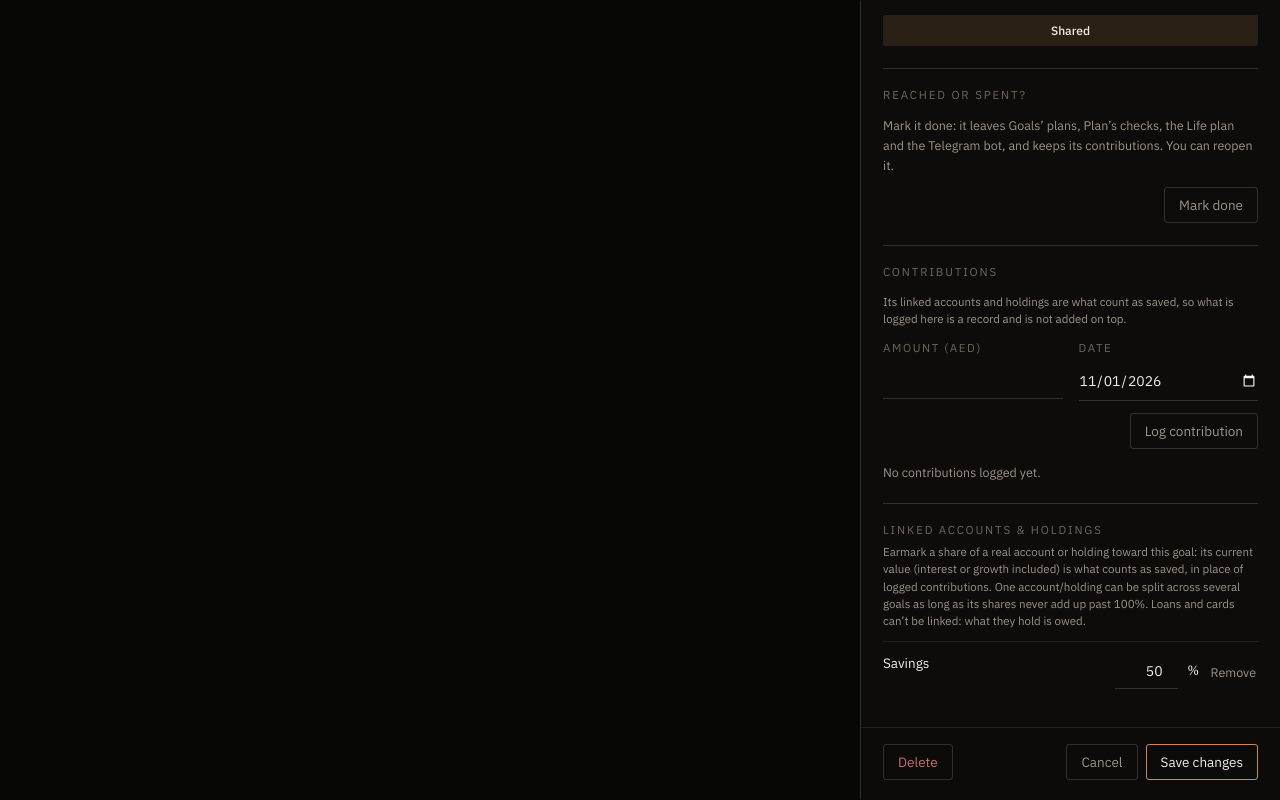
it: GoalEditor: nothing typed is lost or sent twice › counts a typed share as unsaved: Save refuses until it is updated or undone, and Escape asks first
The width and height of the screenshot is (1280, 800).
(page scrolled)
Replace the text in the number field named "Share of Savings, percent" with "60" at [1146, 672], box [1115, 654, 1178, 689]
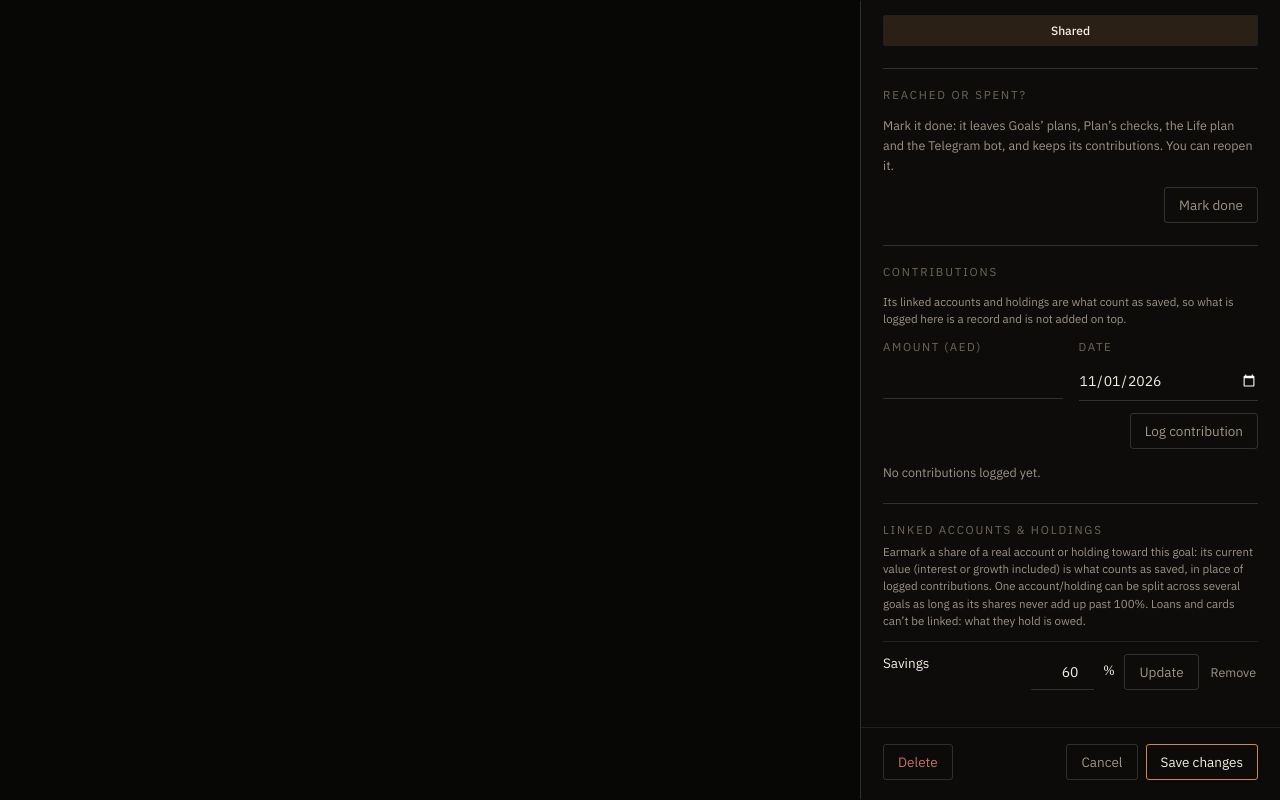
Click the button "Save changes" at [1202, 762], box [1146, 744, 1258, 780]
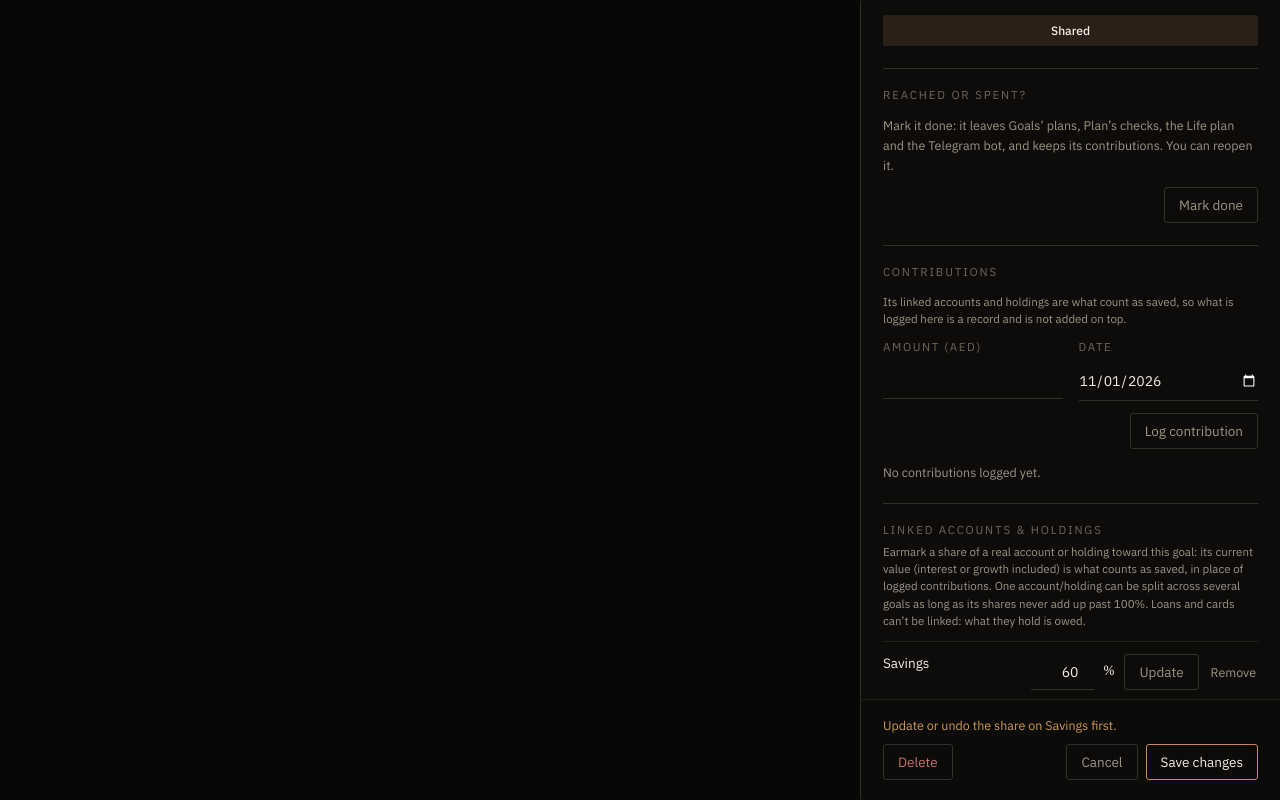
Expected: the message reads "Update or undo the share on Savings first.", [883, 717, 1117, 733]
Press Escape
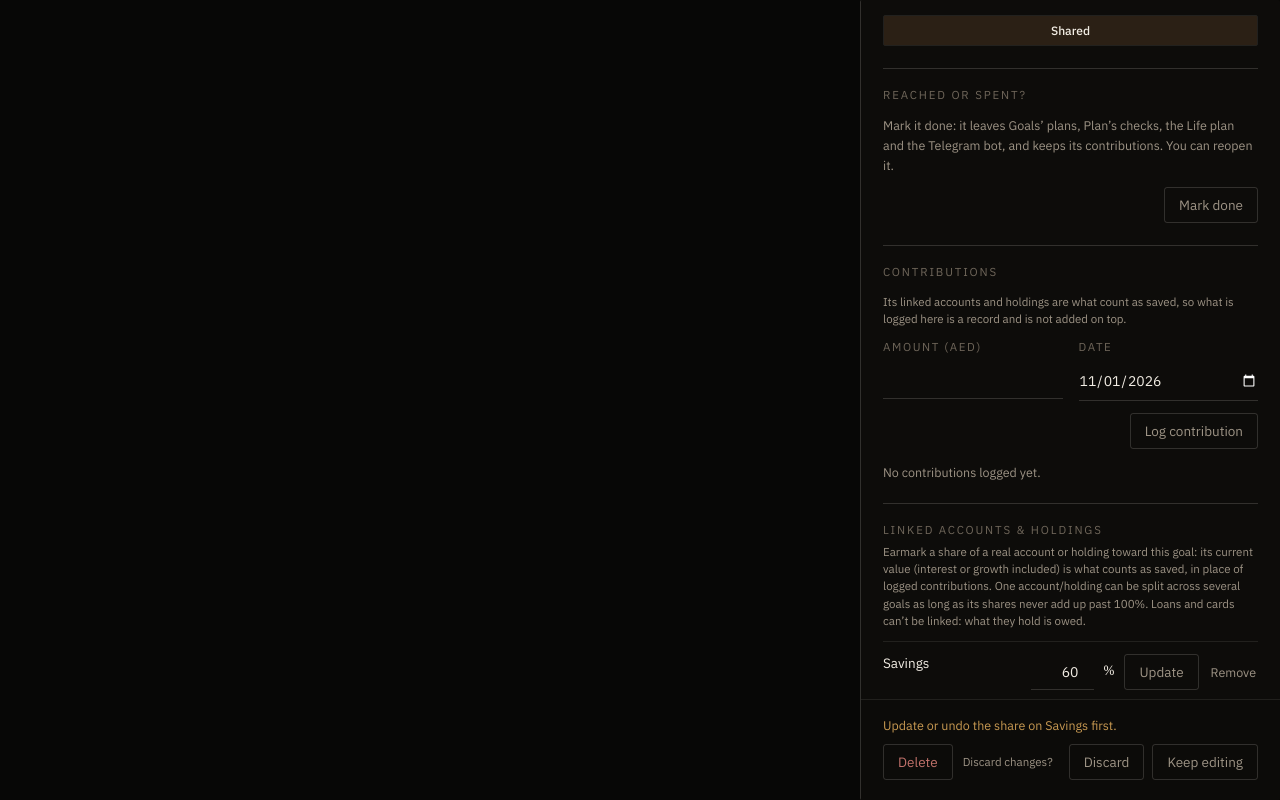
Expected: the text "Discard changes?" is shown, [963, 754, 1053, 770]
